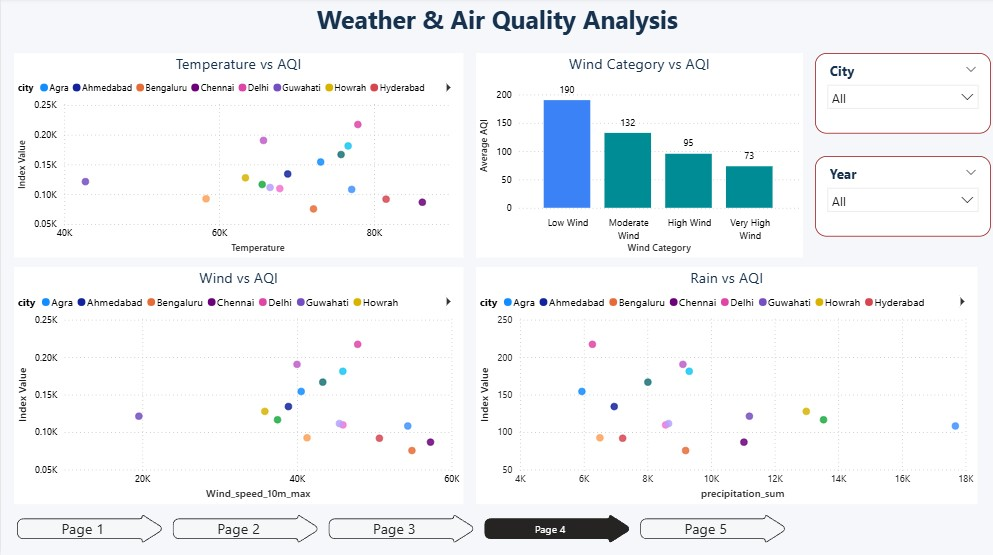

The page's visual inventory and layout, read from the dashboard file:
{"tool":"powerbi","page":{"name":"Page 4","canvas":[1280,720],"ordinal":3},"visuals":[{"type":"textbox","box":[337.6,0,604.7,70.6],"z":0},{"type":"scatterChart","title":"Temperature vs AQI","fields":{"X":["Sum(finalized_data.temperature_2m_mean)"],"Y":["Avg(finalized_data.Index Value)"],"Series":["finalized_data.city"]},"box":[16.8,70.6,579.5,263.7],"z":1000},{"type":"scatterChart","title":"Wind vs AQI","fields":{"Y":["Avg(finalized_data.Index Value)"],"Series":["finalized_data.city"],"X":["Sum(finalized_data.wind_speed_10m_max)"]},"box":[16.8,347.7,579.5,305.7],"z":2000},{"type":"clusteredColumnChart","title":"Wind Category vs AQI","fields":{"Category":["finalized_data.Wind Category"],"Y":["finalized_data.Average AQI"]},"box":[613.1,70.6,421.6,263.7],"z":3000},{"type":"scatterChart","title":"Rain vs AQI","fields":{"Y":["Avg(finalized_data.Index Value)"],"Series":["finalized_data.city"],"X":["Sum(finalized_data.precipitation_sum)"]},"box":[613.1,347.7,646.7,305.7],"z":4000},{"type":"pageNavigator","box":[20.2,665.2,999.5,38.6],"z":5000},{"type":"slicer","fields":{"Values":["finalized_data.city"]},"box":[1049.9,70.6,226.8,104.1],"z":6000},{"type":"slicer","fields":{"Values":["finalized_data.date.Variation.Date Hierarchy.Year"]},"box":[1049.9,203.3,226.8,104.1],"z":7000}]}

Visuals, with their boxes in screenshot pixels (x1, y1, x2, y2), scaled from the page's 1280x720 canvas onto the 993x555 screenshot:
textbox: l=262, t=0, r=731, b=54
"Temperature vs AQI" scatterChart: l=13, t=54, r=463, b=258
"Wind vs AQI" scatterChart: l=13, t=268, r=463, b=504
"Wind Category vs AQI" clusteredColumnChart: l=476, t=54, r=803, b=258
"Rain vs AQI" scatterChart: l=476, t=268, r=977, b=504
pageNavigator: l=16, t=513, r=791, b=543
slicer - finalized_data.city: l=814, t=54, r=990, b=135
slicer - finalized_data.date.Variation.Date Hierarchy.Year: l=814, t=157, r=990, b=237
